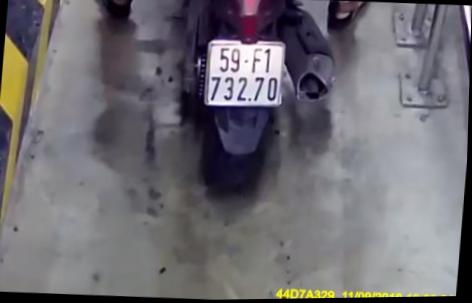LP: (202, 36, 287, 113)
